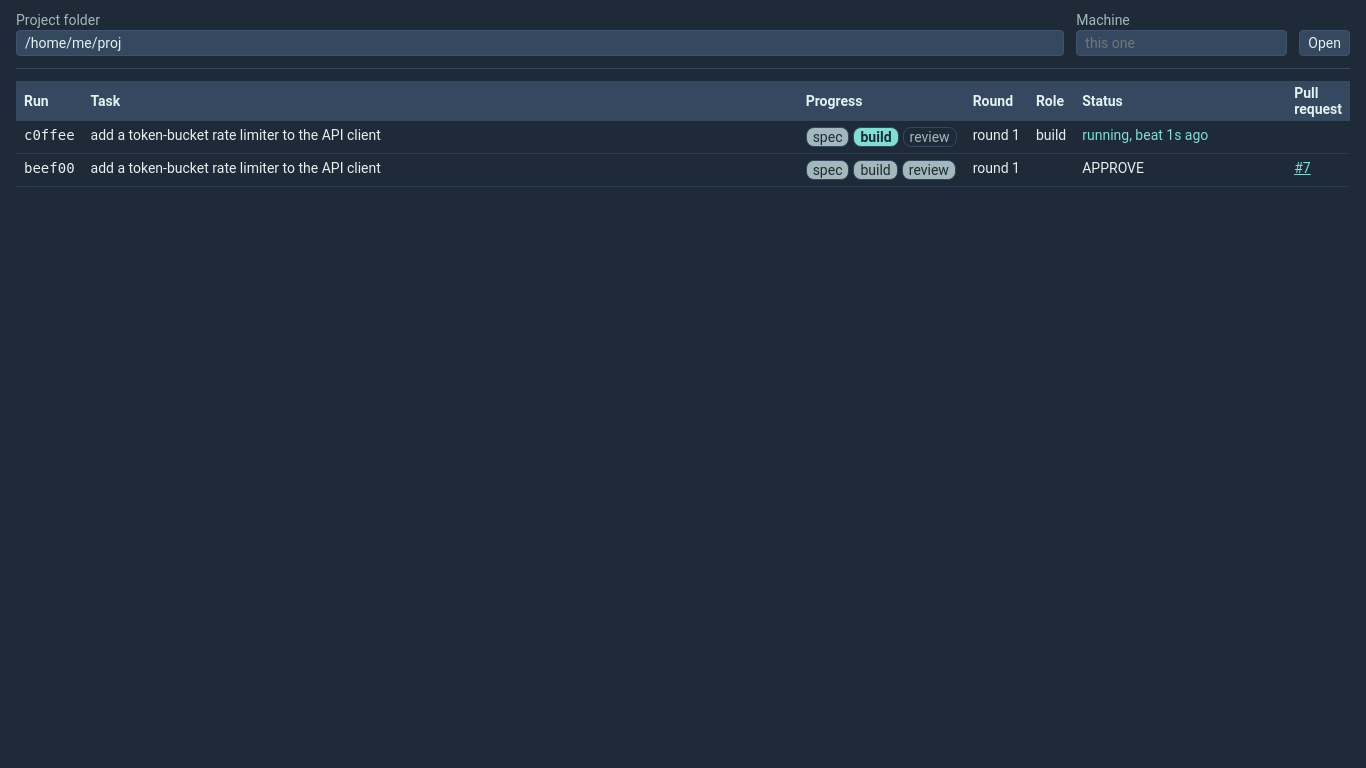
the agents › says when an agent has exited, and when none has started
Click the row that starts with "c0ffee" at (683, 137), box [16,121,1350,154]
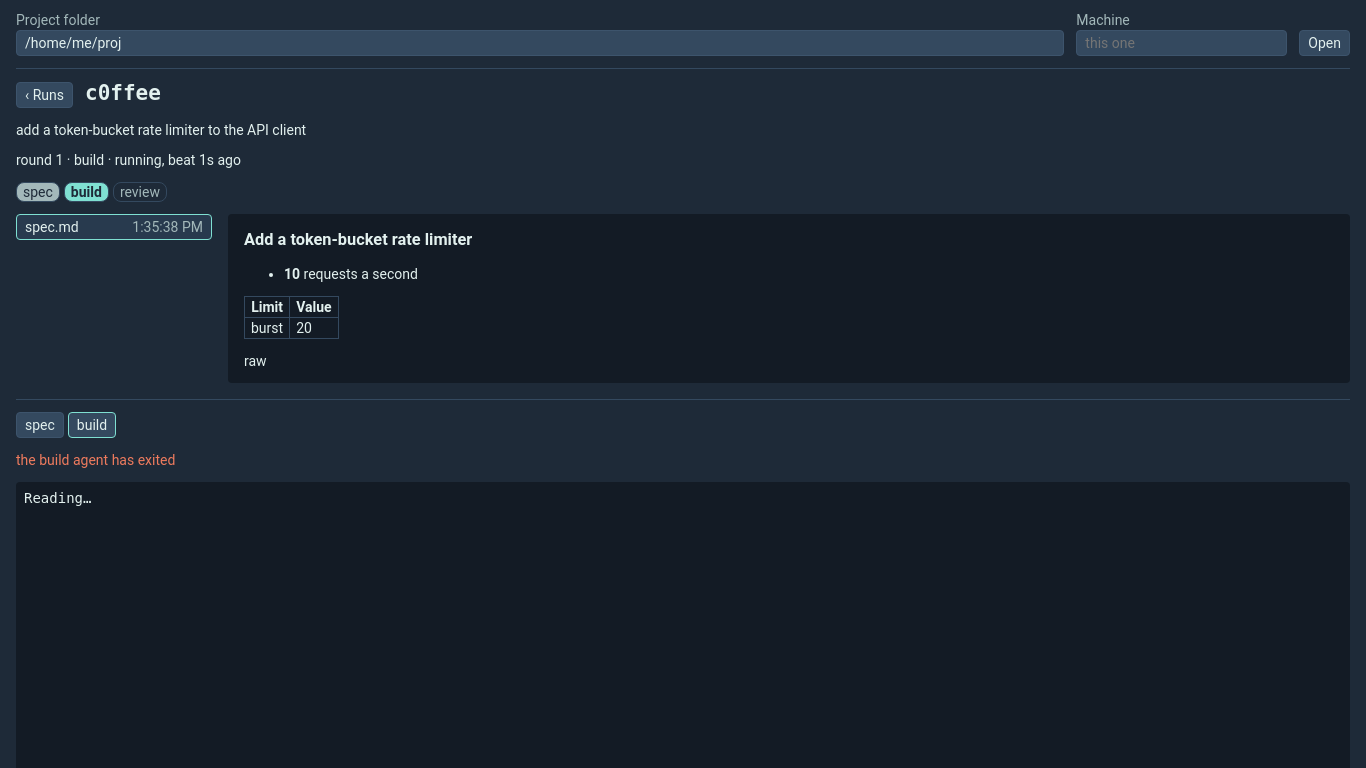
Expected: the text "the build agent has exited" is shown, [16,452,175,468]
Click the button "‹ Runs" at (44, 95), box [16,82,73,108]
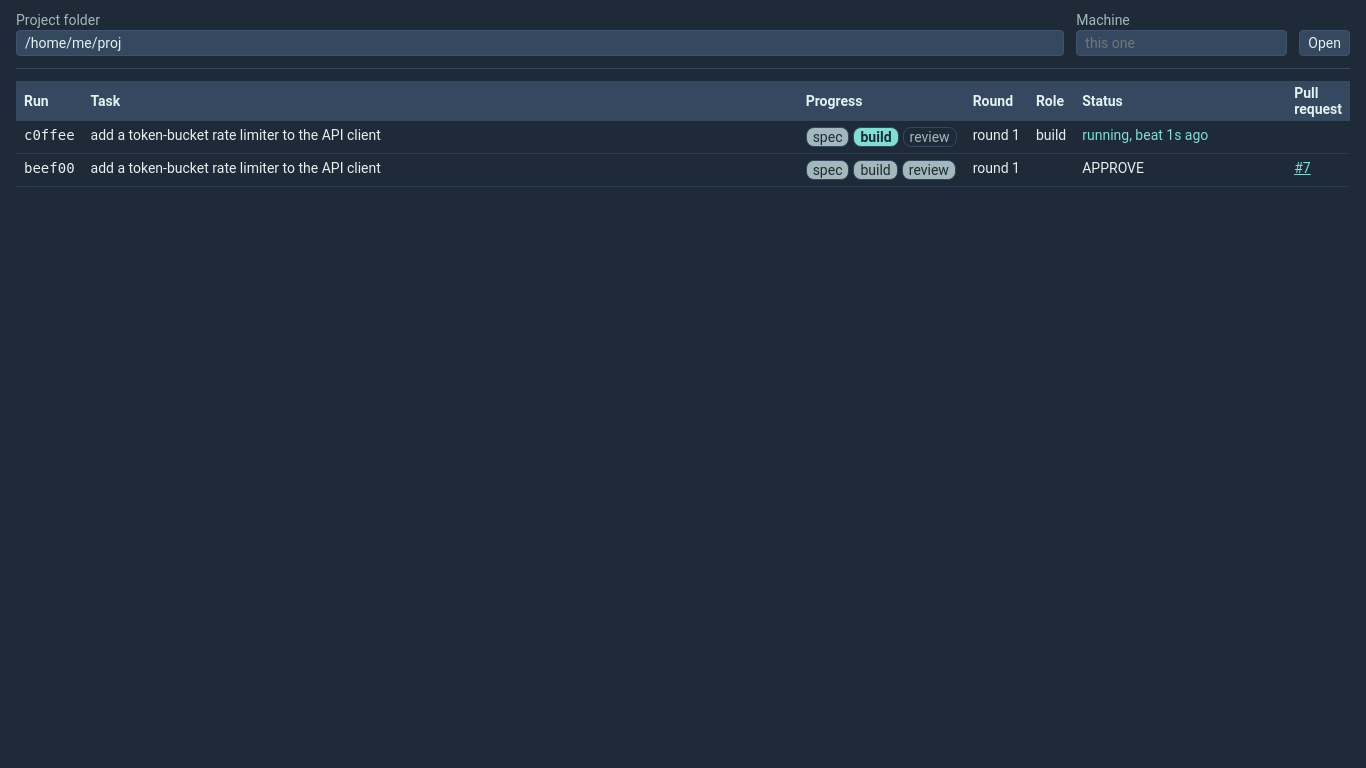
Click the row that starts with "beef00" at (683, 170), box [16,154,1350,186]
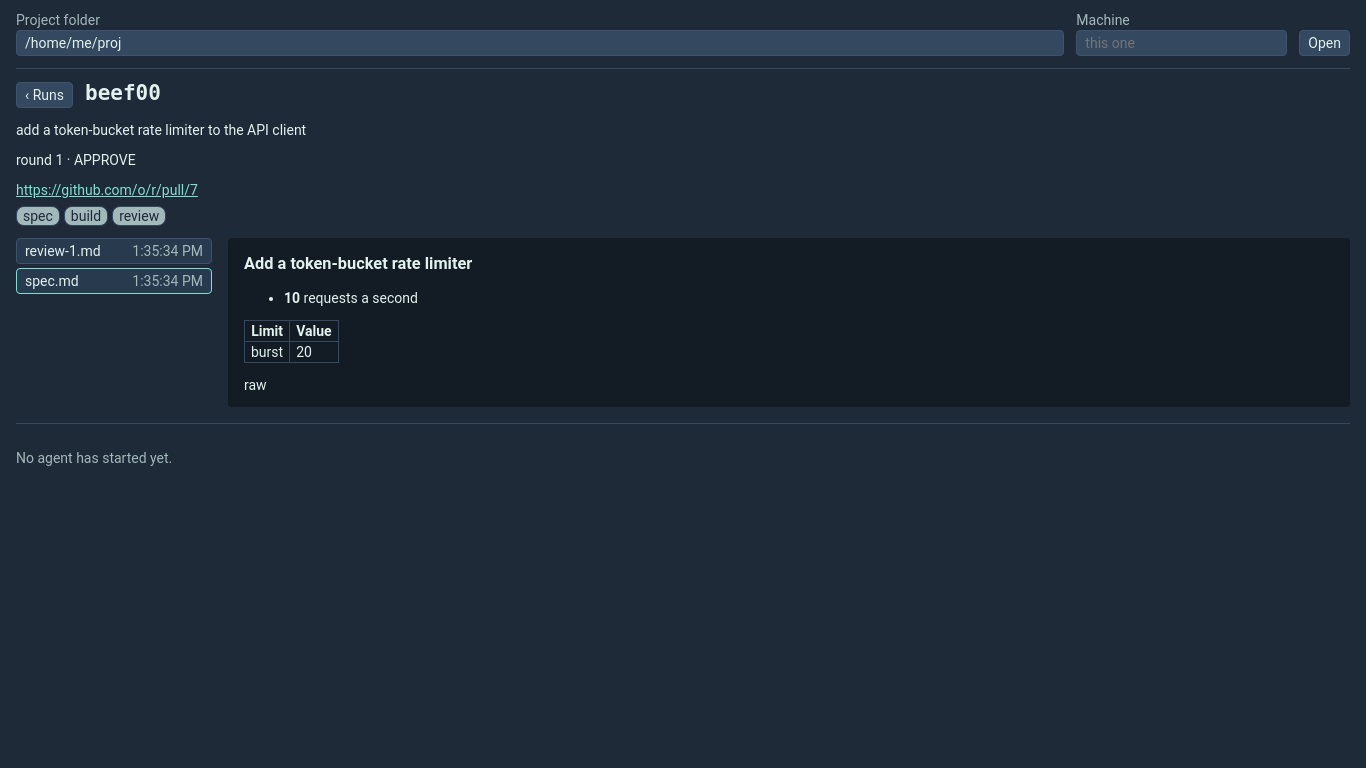
Expected: the text "No agent has started yet." is shown, [16,450,172,466]
